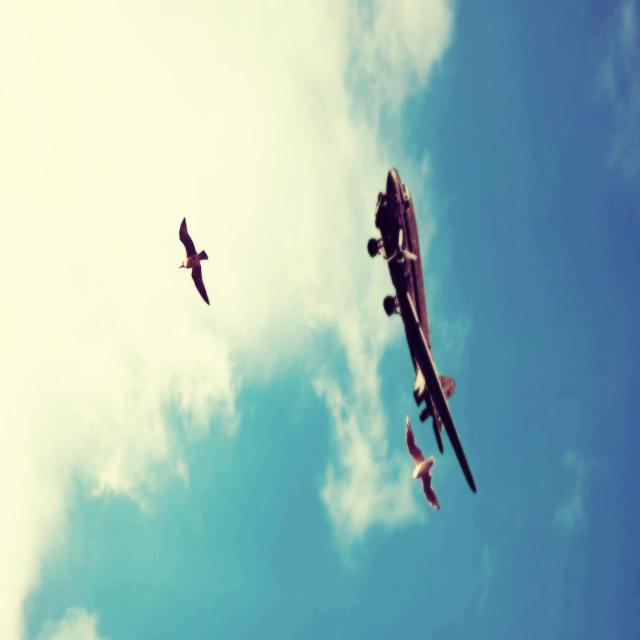airplane: (367, 166, 477, 494)
